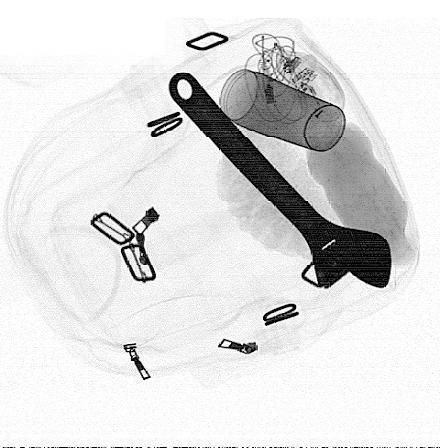Wrench: (168, 71, 392, 291)
